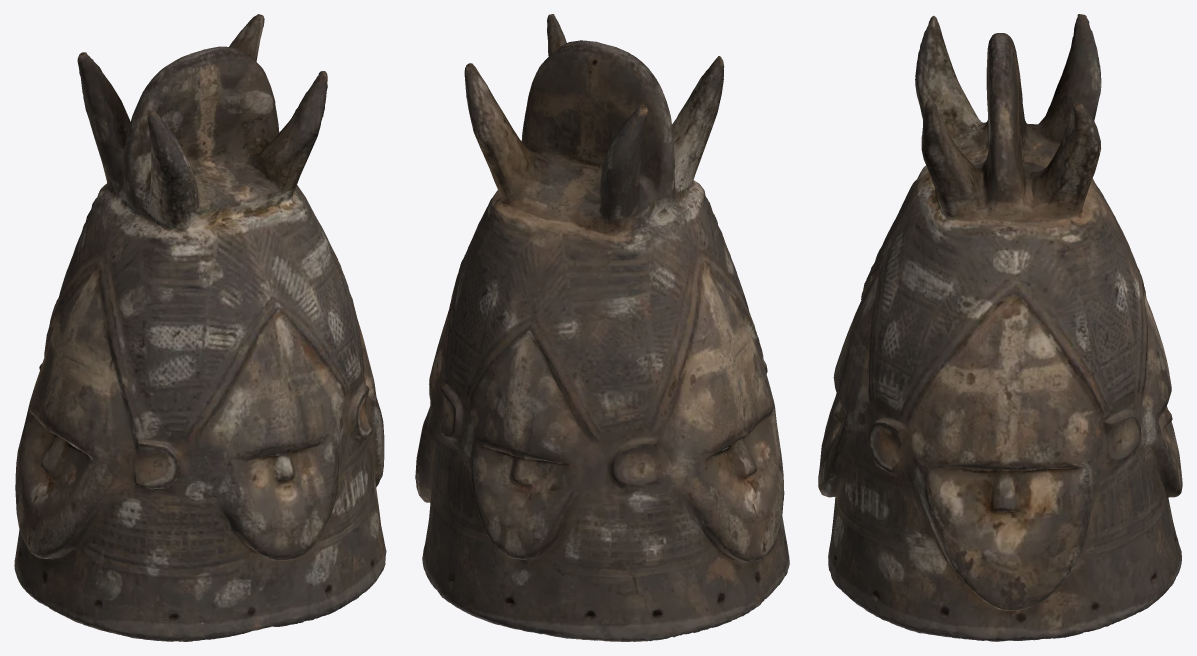
File: preview.glb
The picture shows the model from 3 angles, left to right: view 1: azimuth 30°, elevation 25°; view 2: azimuth 150°, elevation 25°; view 3: azimuth 270°, elevation 25°; orthographic projection.
Parts seen in each view (by area): view 1: ADVIMG_2019_477_5_Mask_Liberia_Complete_EDIT_n3d; view 2: ADVIMG_2019_477_5_Mask_Liberia_Complete_EDIT_n3d; view 3: ADVIMG_2019_477_5_Mask_Liberia_Complete_EDIT_n3d.
Part boxes in pixels (x1,y1,x2,y2): ADVIMG_2019_477_5_Mask_Liberia_Complete_EDIT_n3d: (14,14,386,641); ADVIMG_2019_477_5_Mask_Liberia_Complete_EDIT_n3d: (415,14,789,641); ADVIMG_2019_477_5_Mask_Liberia_Complete_EDIT_n3d: (818,14,1182,641).
Bounding box in the file's own units: 0.1858 × 0.2772 × 0.1739.
1 material, 1 textured.
